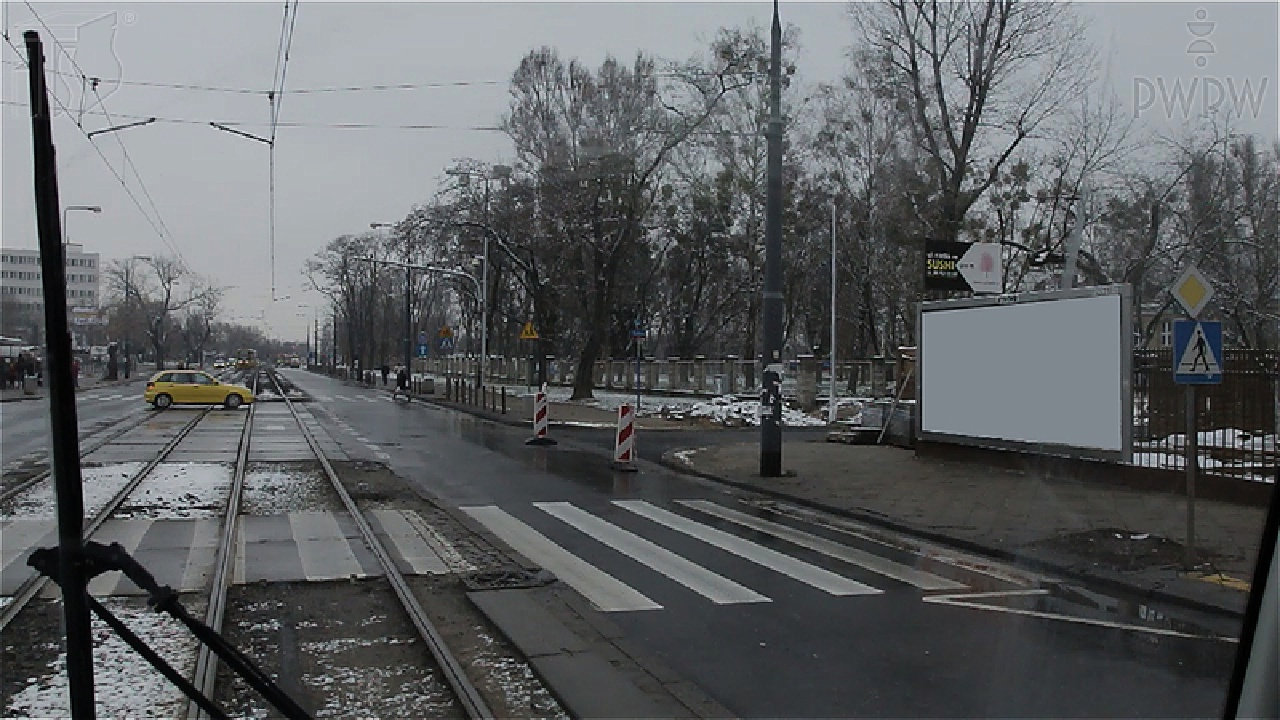D1: (1170, 264, 1215, 319)
D6: (1173, 322, 1222, 385)
